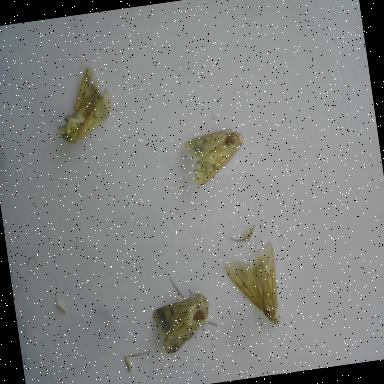abw: (144, 269, 223, 360), (218, 238, 286, 334), (47, 60, 120, 148), (180, 124, 254, 190)
